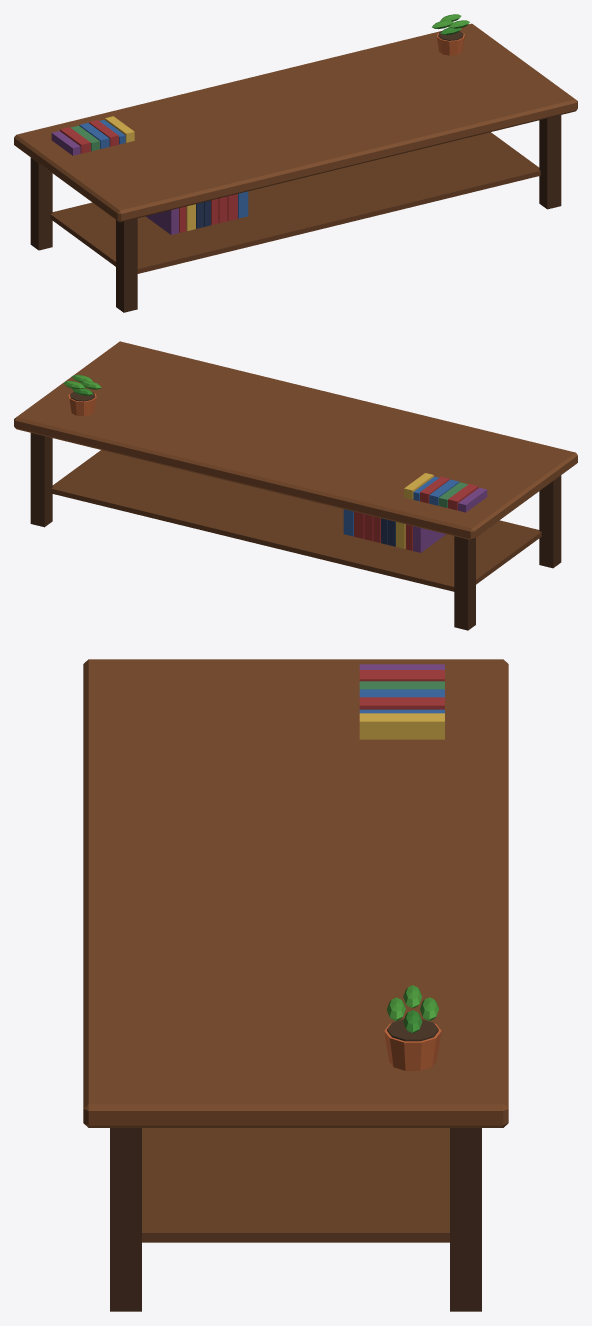
The model's file is coffee_table.fbx.
3 renders of one model, top to bottom at view 1: azimuth 30°, elevation 25°; view 2: azimuth 150°, elevation 25°; view 3: azimuth 270°, elevation 25°, orthographic. The views are drawn at different scales.
Visible parts, largest first — view 1: coffee_table; view 2: coffee_table; view 3: coffee_table.
Boxes of the visible parts, x1,y1,x2,y2 form: coffee_table: (14,14,577,312); coffee_table: (14,341,577,630); coffee_table: (83,659,508,1311).
Size of the model in its own units: 2 by 0.5796 by 0.8.
